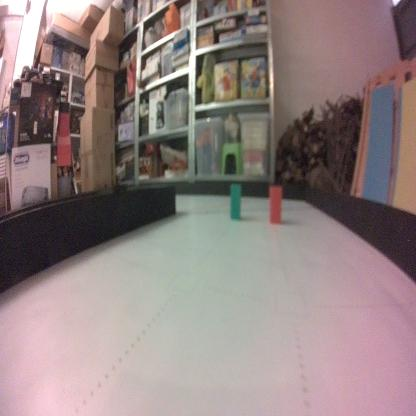green: (229, 182, 241, 222)
red: (268, 185, 282, 223)
